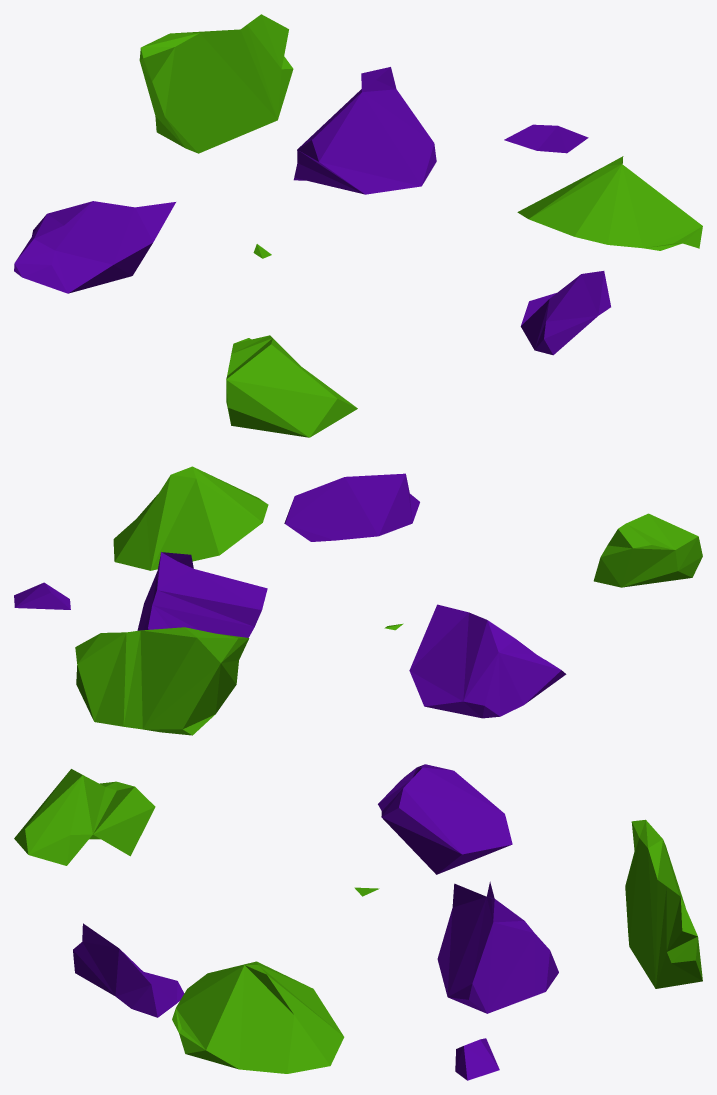
The model's file is DebrisVariety2.fbx.
The picture shows the model from 3 angles, top to bottom: view 1: azimuth 30°, elevation 25°; view 2: azimuth 150°, elevation 25°; view 3: azimuth 270°, elevation 25°; orthographic projection. The views are drawn at different scales.
Visible parts, largest first — view 1: DebrisV2; view 2: DebrisV2; view 3: DebrisV2.
Part boxes in pixels (box(x1,y1,x2,y2)): DebrisV2: box(14, 14, 702, 437); DebrisV2: box(14, 466, 702, 735); DebrisV2: box(14, 764, 702, 1080).
Bounding box in the file's own units: 2.85 × 0.5373 × 3.01.
